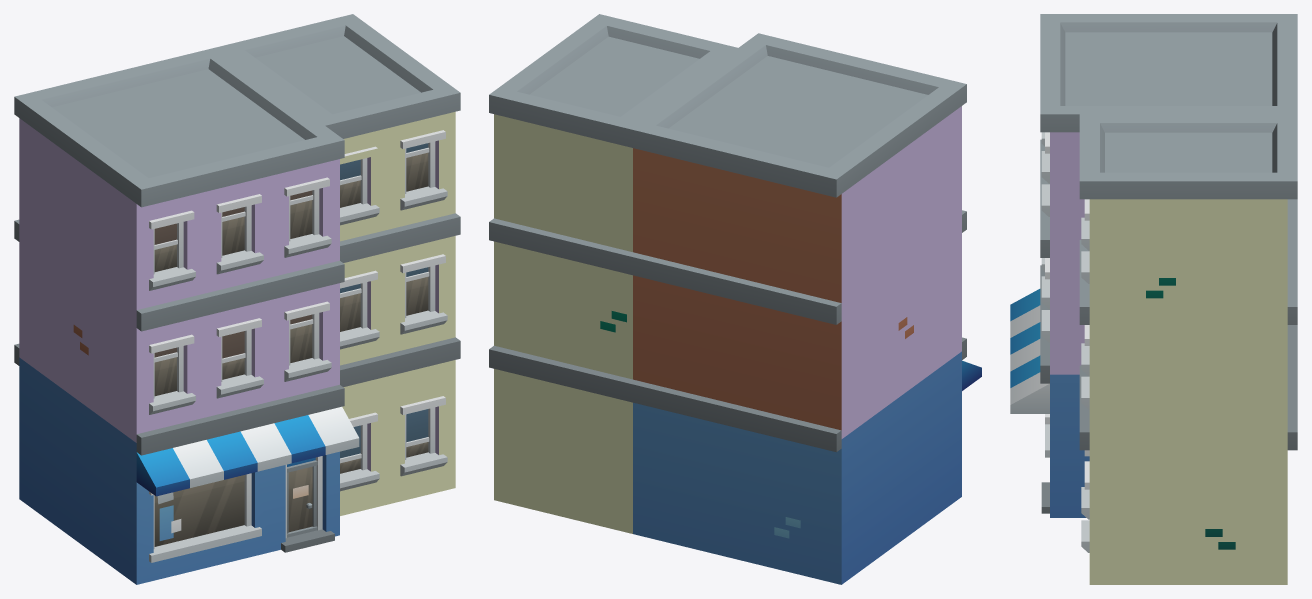
File: nha13.glb
3 renders of one model, left to right at view 1: azimuth 30°, elevation 25°; view 2: azimuth 150°, elevation 25°; view 3: azimuth 270°, elevation 25°, orthographic. The views are drawn at different scales.
Visible parts, largest first — view 1: building_G_withoutBase_Cube.945; view 2: building_G_withoutBase_Cube.945; view 3: building_G_withoutBase_Cube.945.
Boxes of the visible parts, x1,y1,x2,y2 form: building_G_withoutBase_Cube.945: (14,14,460,584); building_G_withoutBase_Cube.945: (489,14,981,584); building_G_withoutBase_Cube.945: (1010,14,1297,584).
Size of the model in its own units: 2.01 by 2.25 by 1.45.
3 materials, 1 textured.
